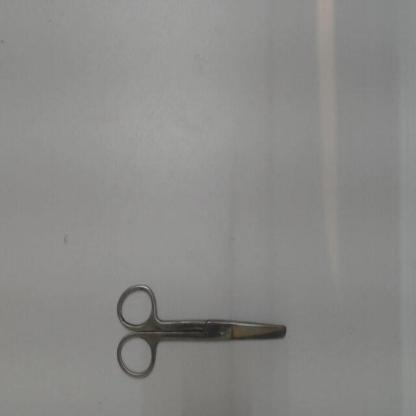Dressing Scissors: (110, 277, 300, 386)
